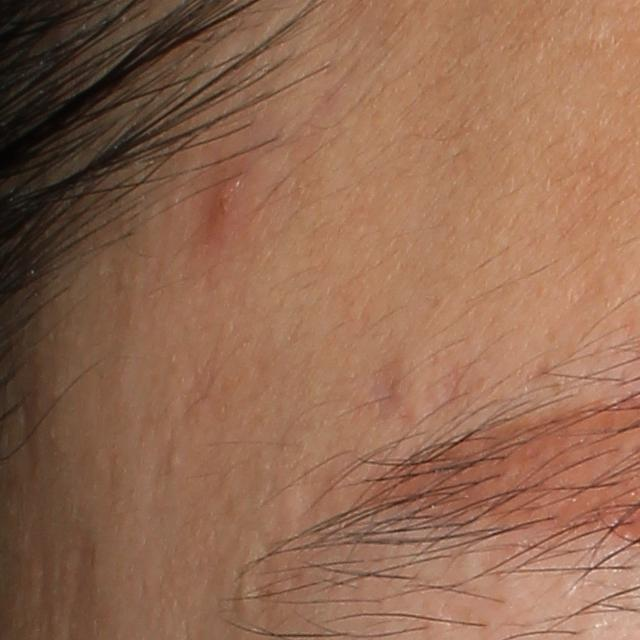comedo: (166, 448, 184, 469)
papule: (205, 173, 240, 233)
